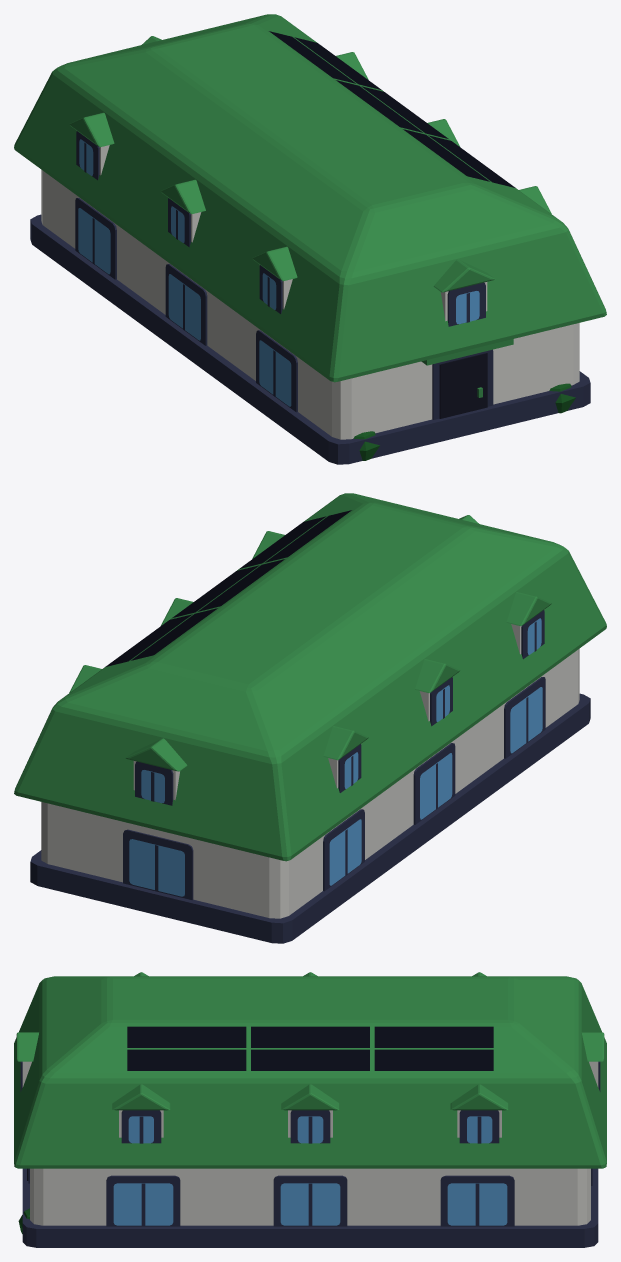
Rendered from house-1x2-1f-mansard-a-solar.glb.
The picture shows the model from 3 angles, top to bottom: view 1: azimuth 30°, elevation 25°; view 2: azimuth 150°, elevation 25°; view 3: azimuth 270°, elevation 25°; orthographic projection. The views are drawn at different scales.
Parts seen in each view (by area): view 1: house-1x2-1f-mansard-a-solar; view 2: house-1x2-1f-mansard-a-solar; view 3: house-1x2-1f-mansard-a-solar.
Boxes of the visible parts, x1,y1,x2,y2 form: house-1x2-1f-mansard-a-solar: (14,14,606,464); house-1x2-1f-mansard-a-solar: (14,493,606,943); house-1x2-1f-mansard-a-solar: (14,972,606,1247).
Size of the model in its own units: 0.9876 by 0.7026 by 1.99.
Materials: 1 (1 with a texture image).
